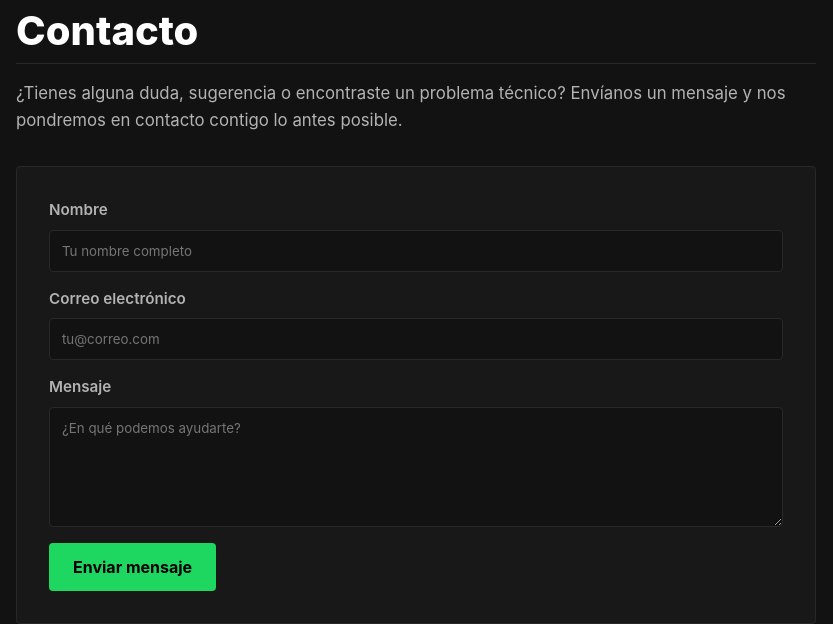
Test: ContactPage › si Web3Forms falla muestra el error y conserva lo escrito
Type "Ana Pérez" into the field labelled "Nombre" at (416, 250), box x1=49 y1=230 x2=783 y2=272
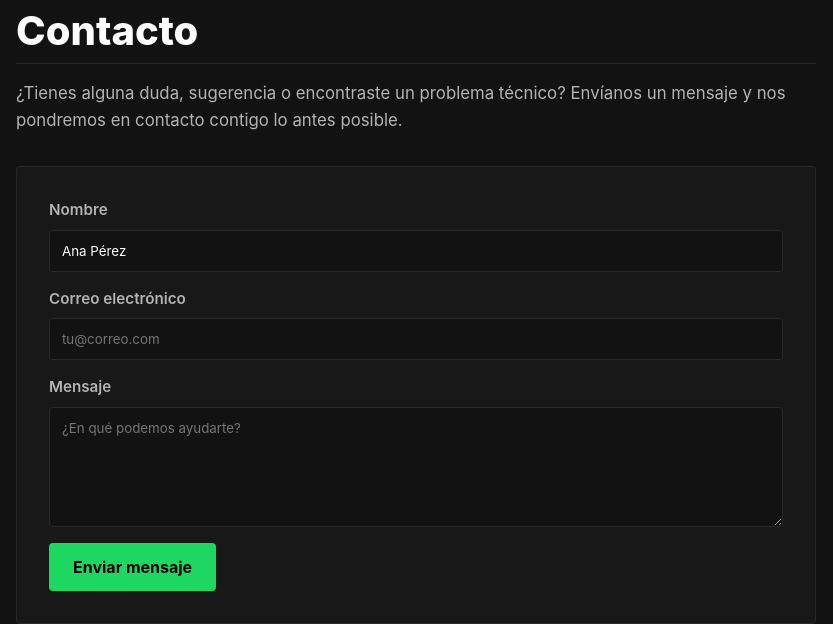
Type "ana@correo.com" into the field labelled "Correo electrónico" at (416, 339), box x1=49 y1=318 x2=783 y2=360
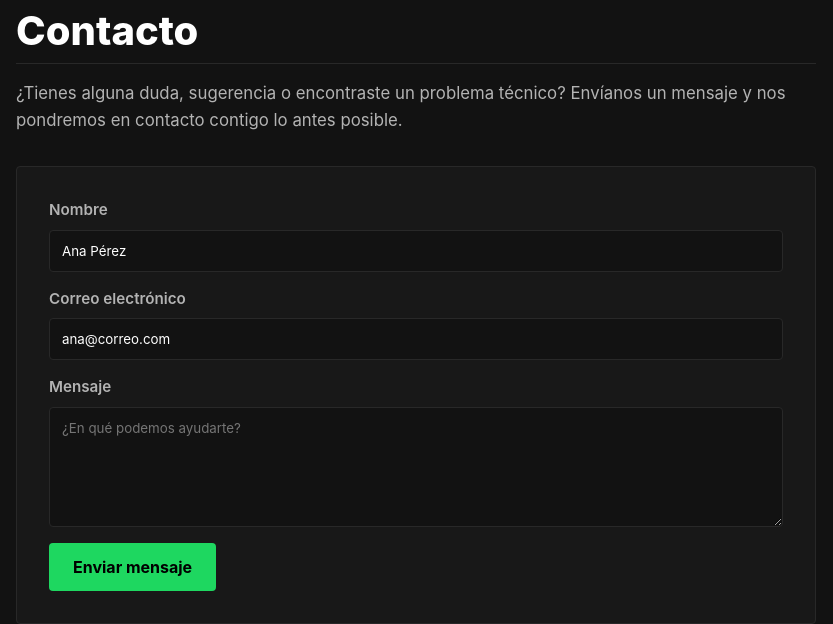
Type "Encontré un error en la ficha de un álbum." into the text box labelled "Mensaje" at (416, 467), box x1=49 y1=407 x2=783 y2=527
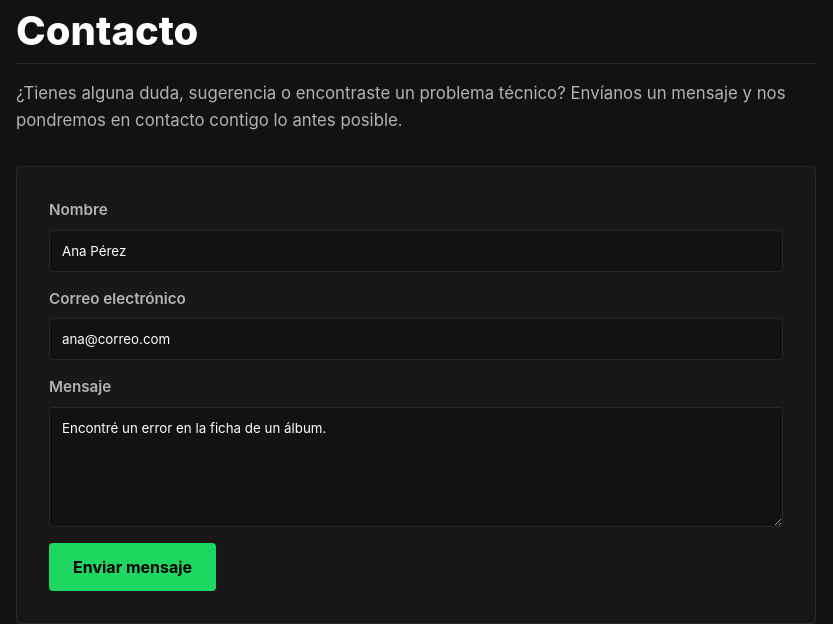
Click the button "Enviar mensaje" at (133, 567), box x1=49 y1=543 x2=216 y2=591
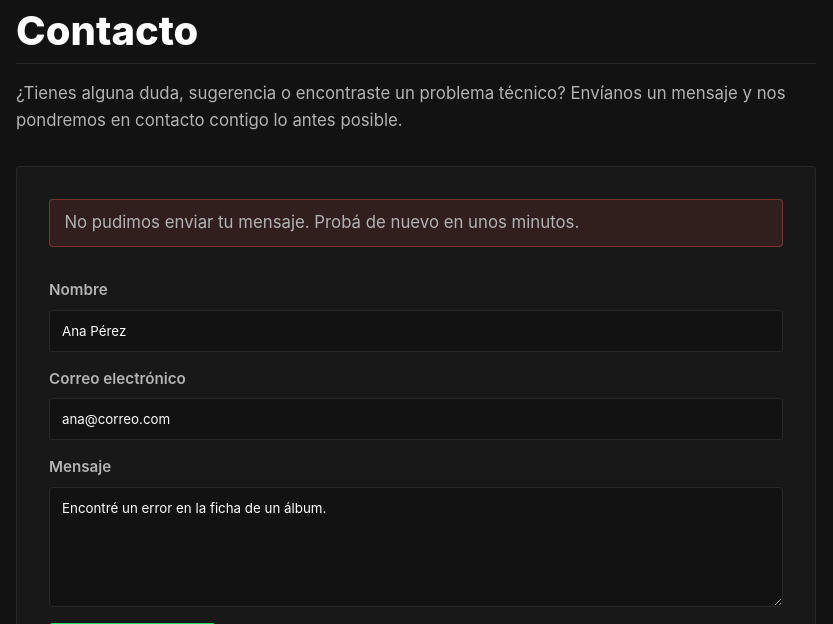
Check: the text "No pudimos enviar tu mensaje. Probá de nuevo en unos minutos." is shown, box x1=49 y1=199 x2=783 y2=247
